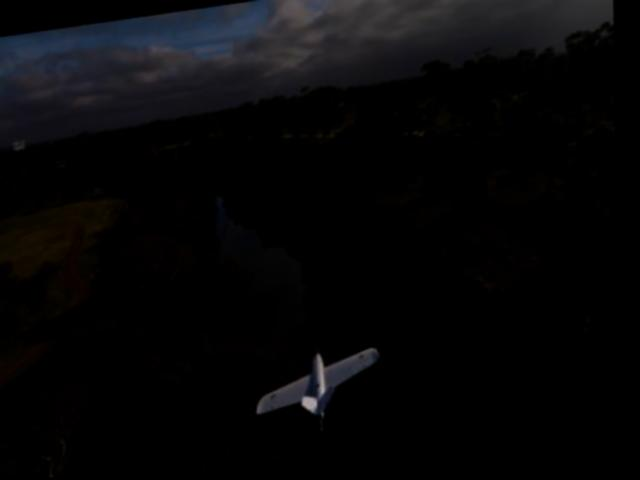uav: (254, 345, 398, 439)
